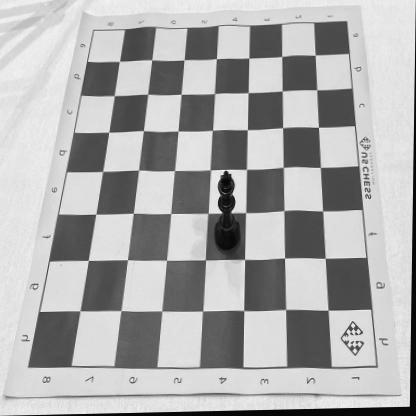black-king: (214, 171, 242, 252)
